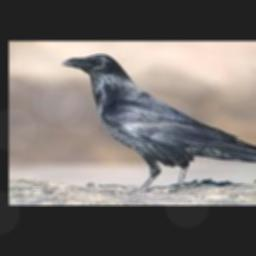Crow: (60, 53, 256, 190)
